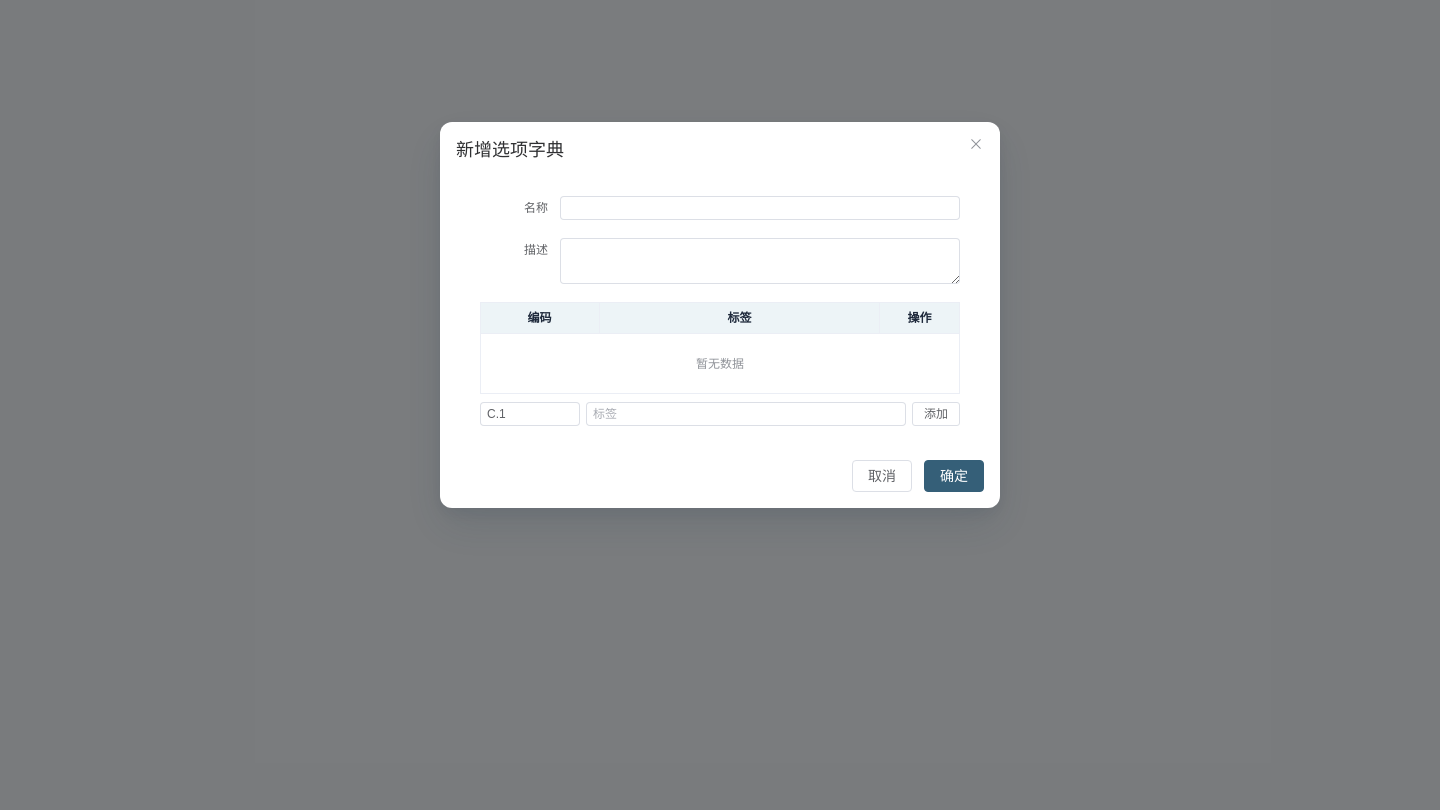
CodelistQuickEditDialog › 选项编码接受自由文本，不做 OID 字符集校验
Replace the text in the 2nd field with "free form code!!" at (530, 414), box [487,402,573,424]
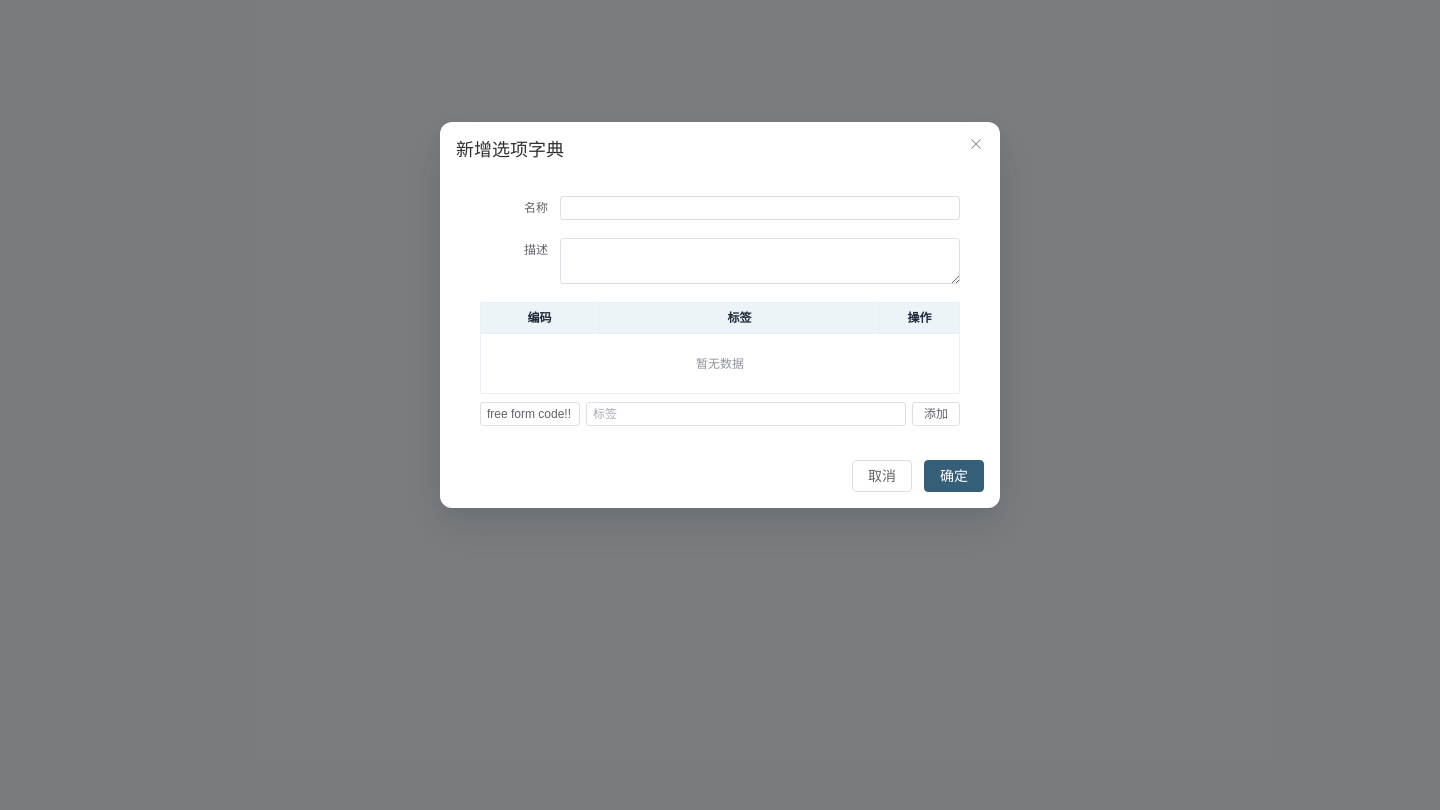
Type "自由标签" into the field with placeholder "标签" at (746, 414), box [593,402,899,424]
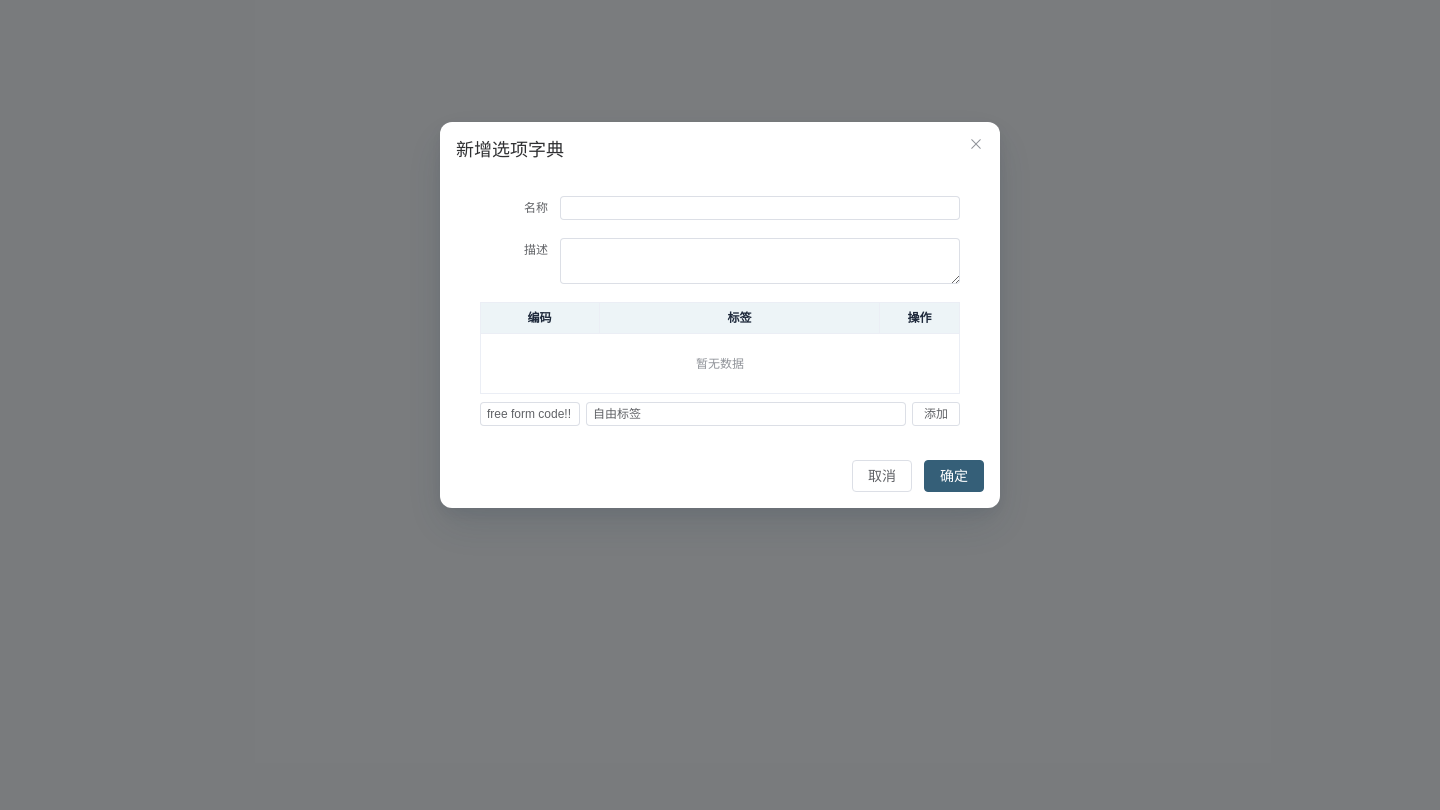
Click the button "添加" at (936, 414), box [912,402,960,426]
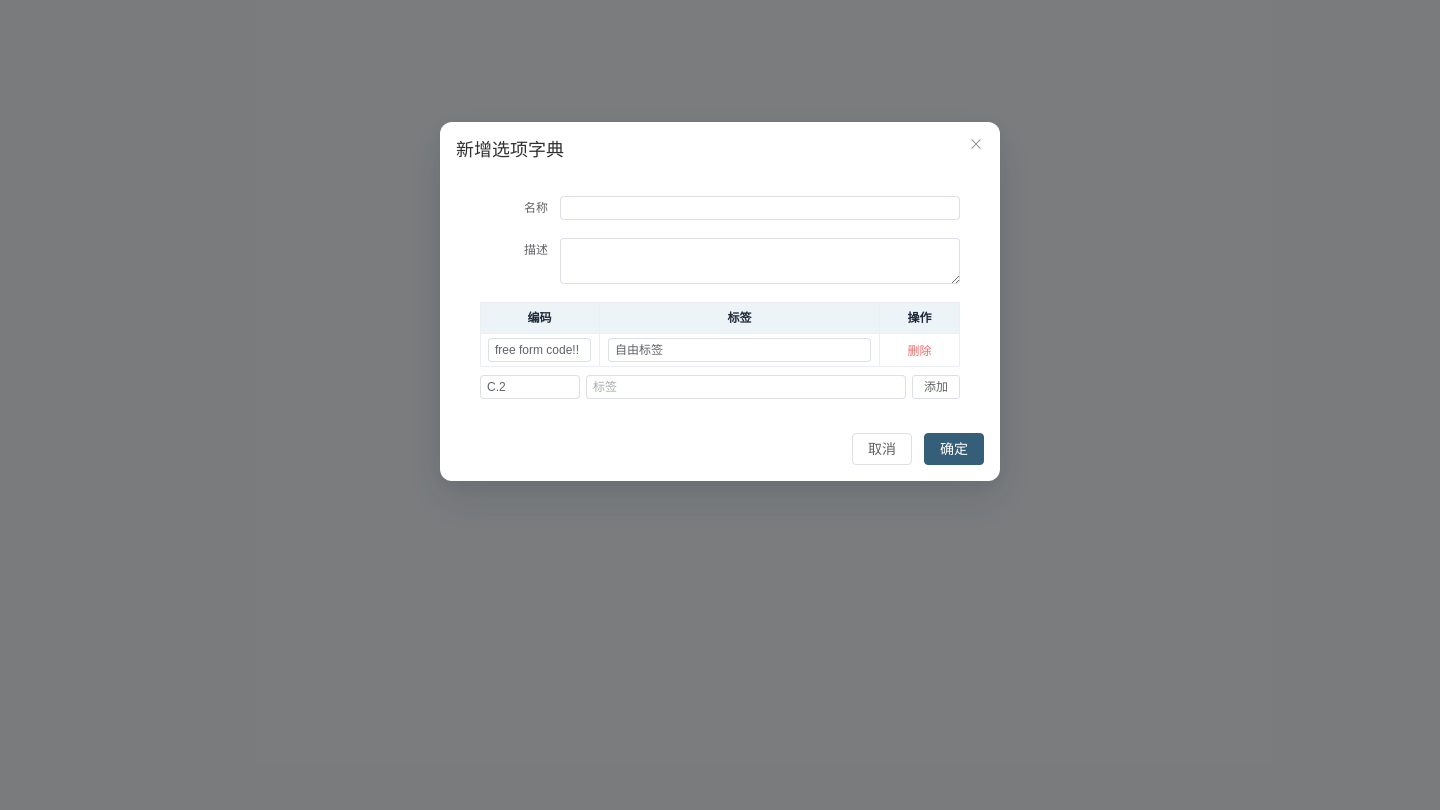
Now the 2nd field holds "free form code!!", box [495,339,584,361]
Now the 3rd field holds "自由标签", box [615,339,864,361]
